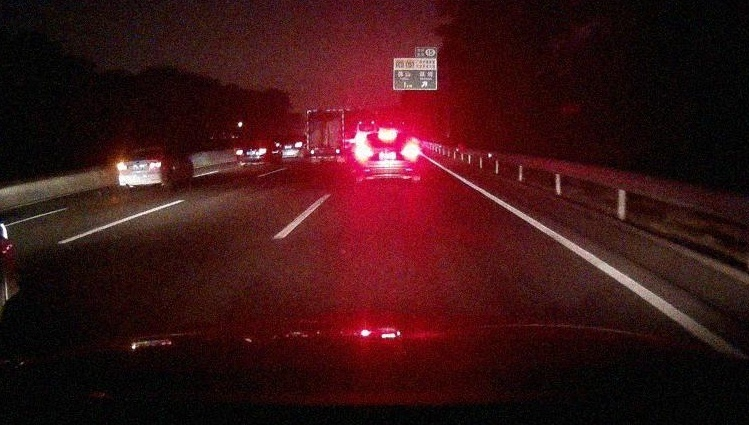L_light: (358, 150, 373, 157), (118, 165, 128, 169), (236, 150, 244, 155), (310, 150, 317, 154)
R_light: (401, 149, 416, 156), (150, 162, 161, 167), (259, 149, 268, 154), (334, 149, 341, 153)
T_light: (379, 133, 395, 137), (322, 112, 330, 114), (249, 139, 256, 141), (139, 150, 147, 151)
night-brake: (357, 129, 418, 184)
night-left: (118, 147, 165, 192)
night-no: (306, 109, 344, 165), (235, 137, 270, 169)
